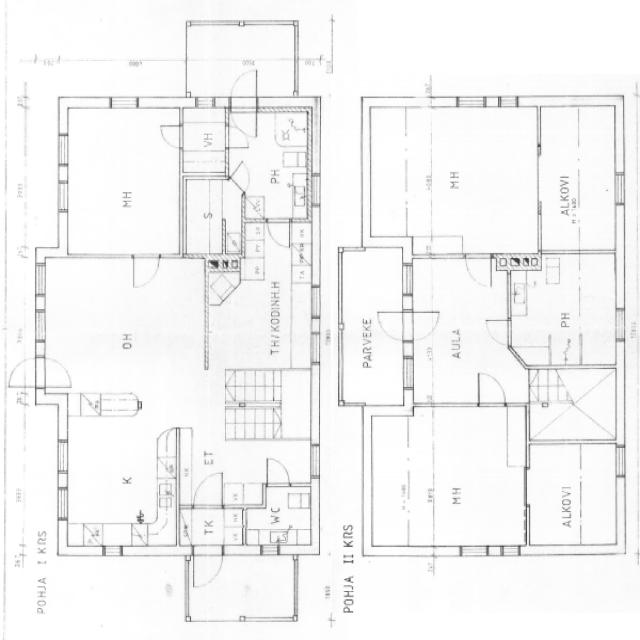door: (340, 253, 408, 406), (228, 66, 260, 136), (190, 544, 226, 590), (475, 369, 508, 410), (192, 471, 225, 512), (129, 251, 162, 291), (463, 251, 495, 291), (41, 355, 75, 392), (408, 309, 440, 343), (482, 316, 514, 348), (263, 455, 293, 489), (376, 310, 406, 342), (266, 217, 292, 250), (8, 357, 34, 390), (157, 121, 185, 150), (225, 125, 251, 152)
window: (32, 284, 49, 354), (456, 94, 521, 110), (54, 167, 72, 215), (533, 143, 545, 214), (308, 315, 323, 368), (55, 129, 72, 172), (54, 437, 72, 476), (32, 261, 48, 304), (54, 483, 71, 523), (612, 305, 628, 345), (106, 94, 142, 111), (613, 442, 629, 480), (612, 169, 627, 209), (431, 399, 479, 411), (308, 284, 323, 322), (429, 249, 466, 264), (309, 442, 322, 479), (194, 94, 216, 109)
zone: (40, 258, 205, 396), (407, 100, 541, 256), (62, 102, 182, 256), (413, 403, 528, 553), (62, 414, 176, 549), (411, 259, 508, 410), (508, 253, 620, 370), (538, 101, 620, 253), (339, 251, 407, 410), (206, 279, 313, 371), (229, 108, 312, 221), (368, 101, 408, 238), (181, 176, 241, 260), (245, 487, 313, 551), (182, 104, 228, 178), (224, 482, 266, 508)
